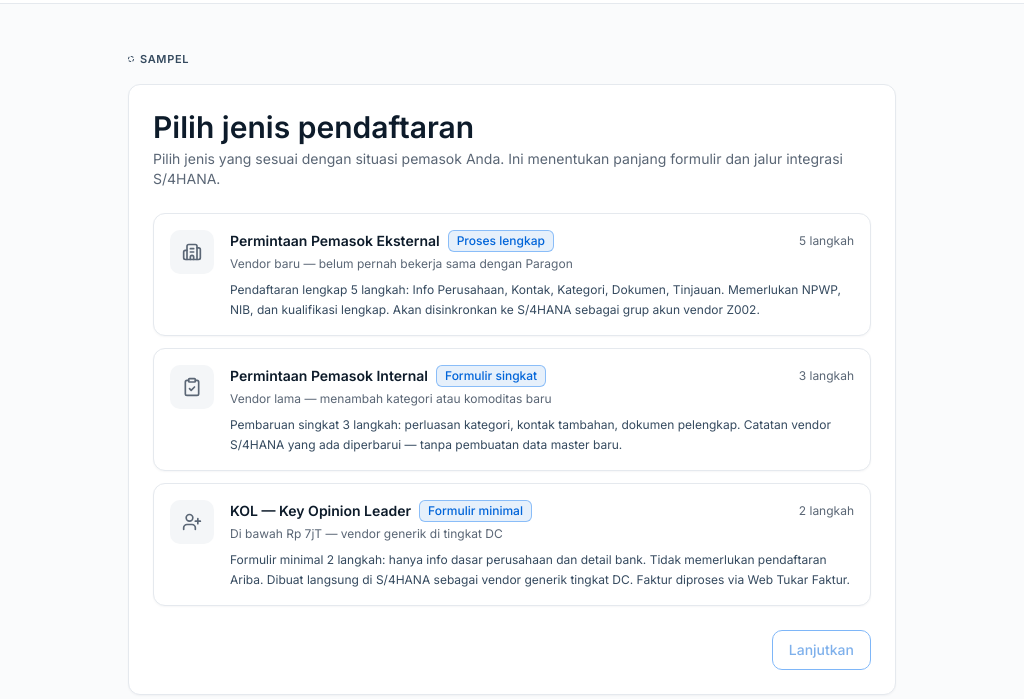
Scenario: registration country · the province gate reads the VALUE › ⚠️ [id] selecting a country BY ITS CANONICAL VALUE closes the province gate
Click the text "Permintaan Pemasok Eksternal" at (335, 241), box [230,231,440,251]
(page scrolled)
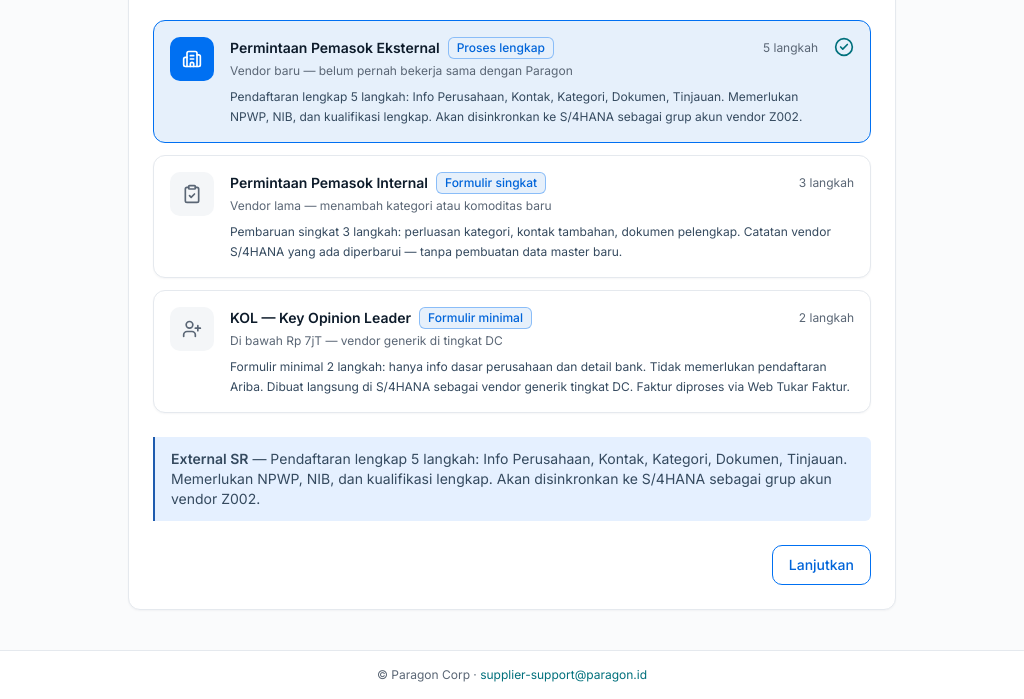
Click the button "Lanjutkan" at (821, 565), box [772,545,871,585]
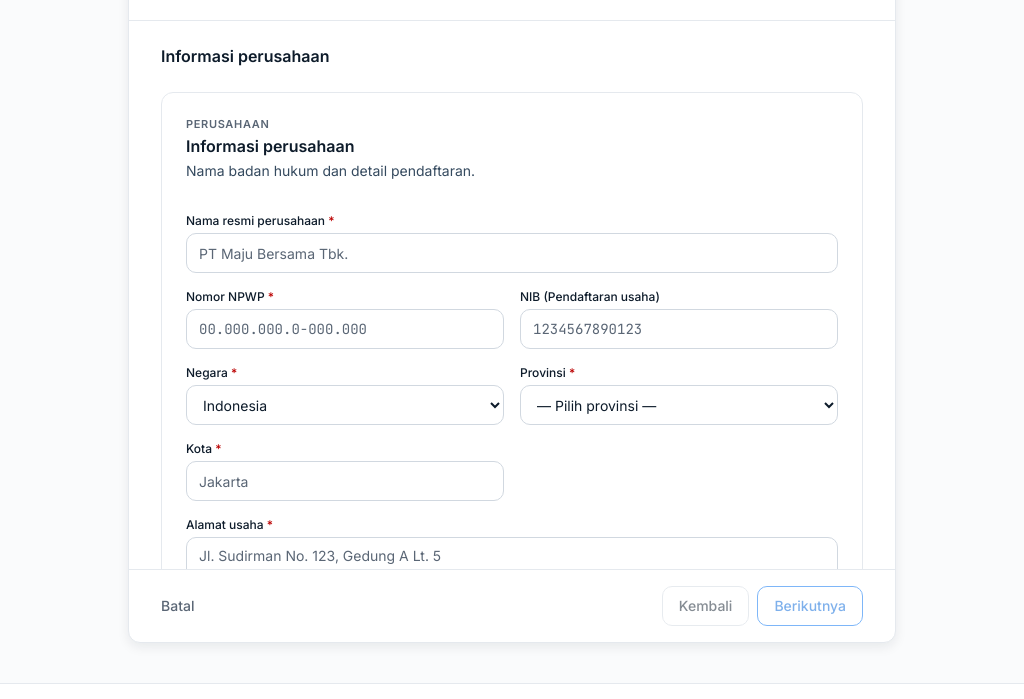
Check: the text "Negara" is shown, box [186,366,228,380]
Select "Singapura" in the dropdown labelled "Negara *" at (345, 406), box [186,386,504,426]
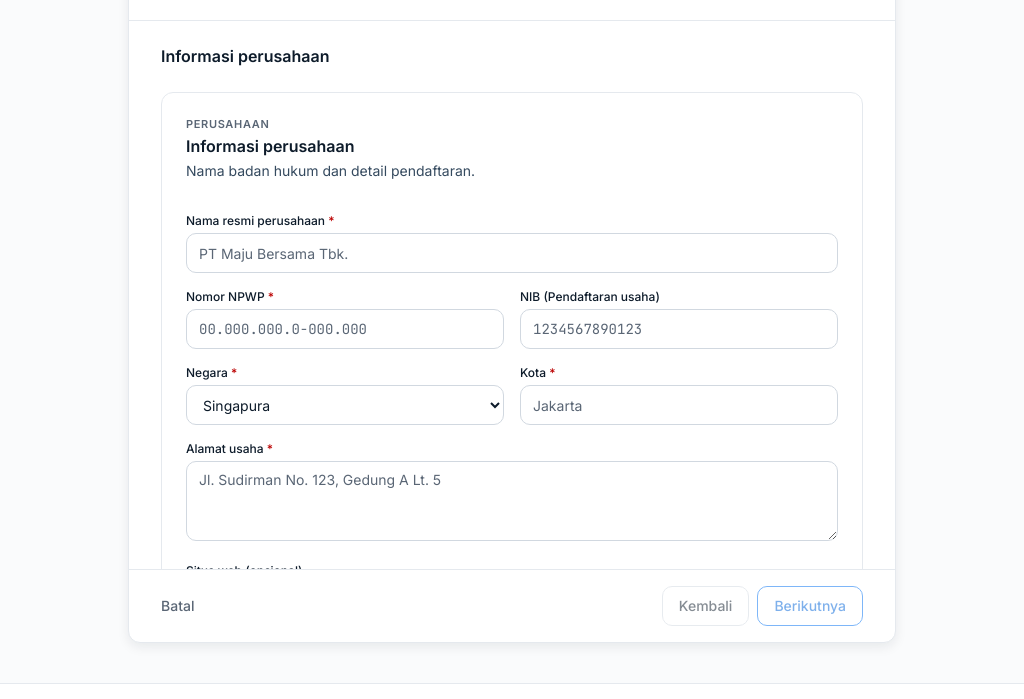
Check: the text "Provinsi" is gone
